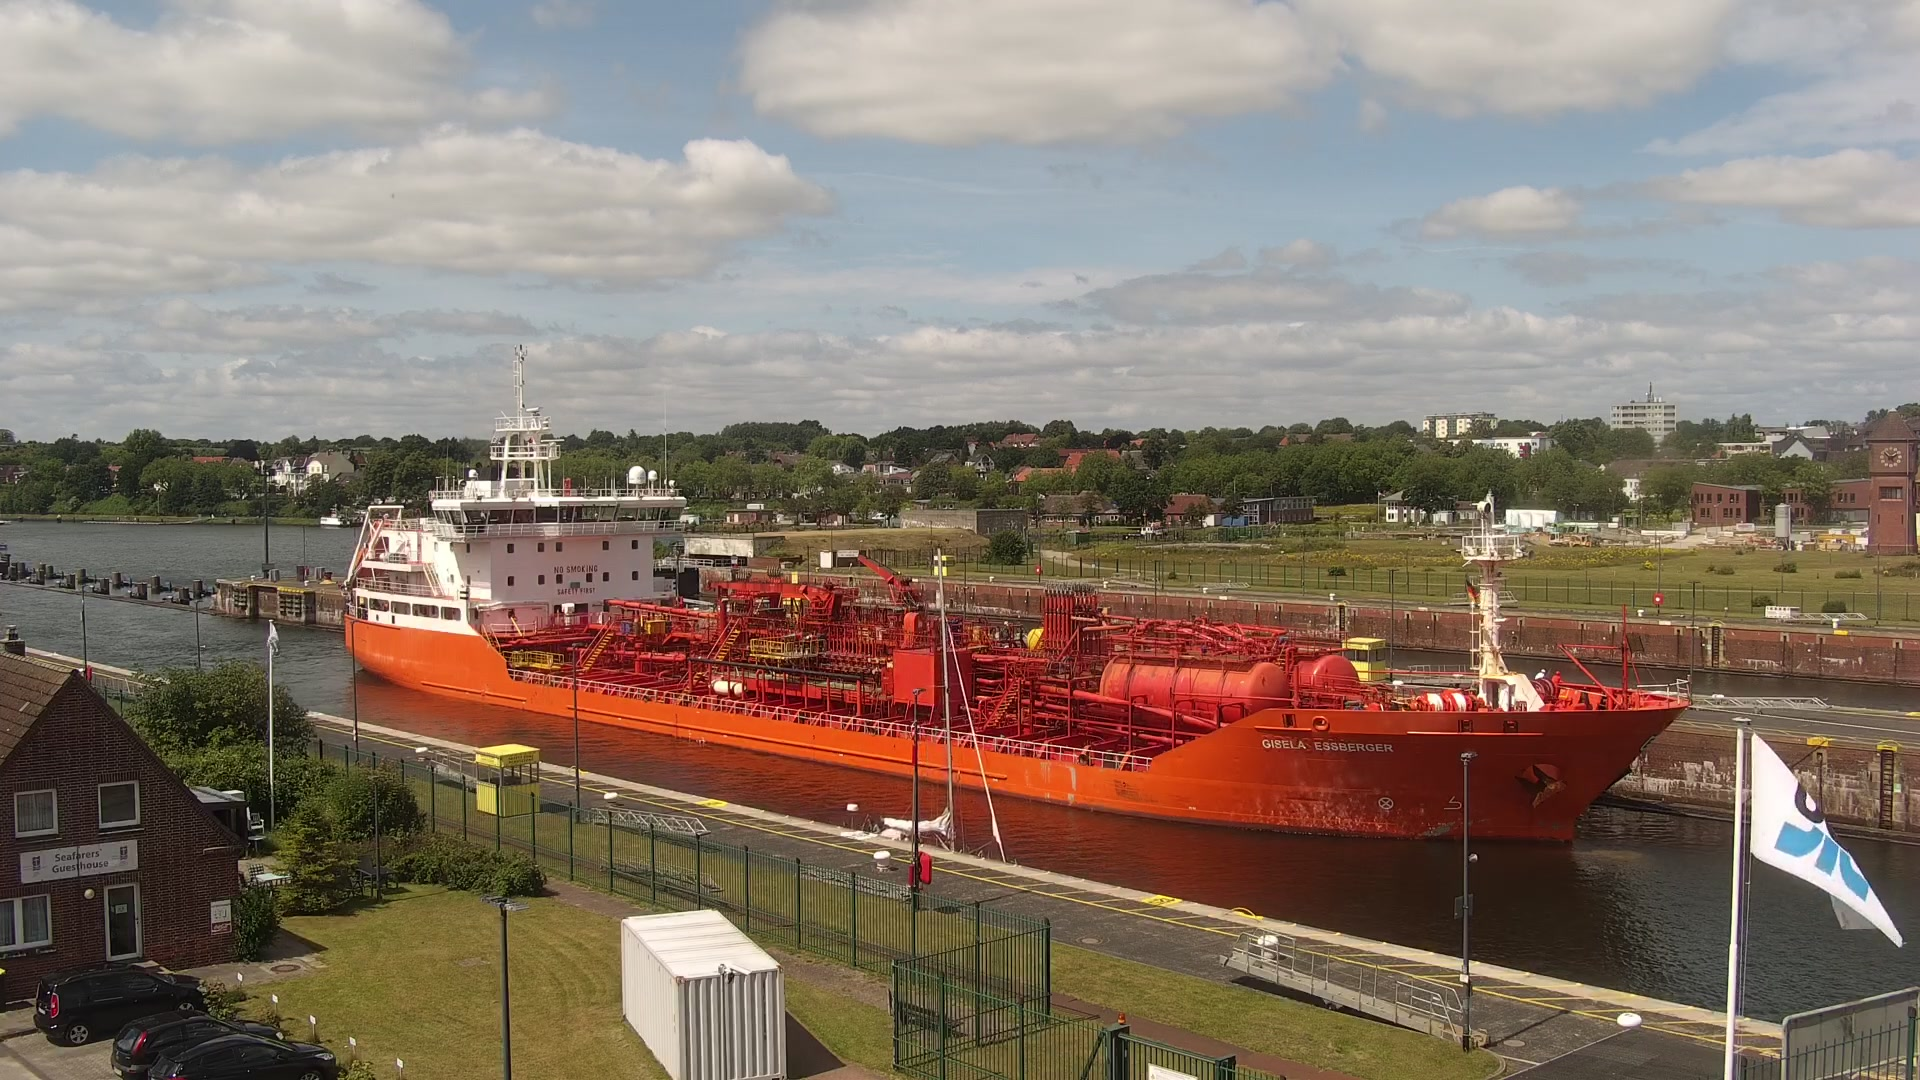human: (1552, 669, 1563, 699), (1535, 668, 1545, 683)
land: (32, 961, 202, 1044), (109, 1008, 284, 1079), (146, 1031, 336, 1080), (1570, 533, 1593, 547), (1548, 531, 1569, 545), (871, 512, 889, 520)
sea: (339, 341, 1693, 843)
